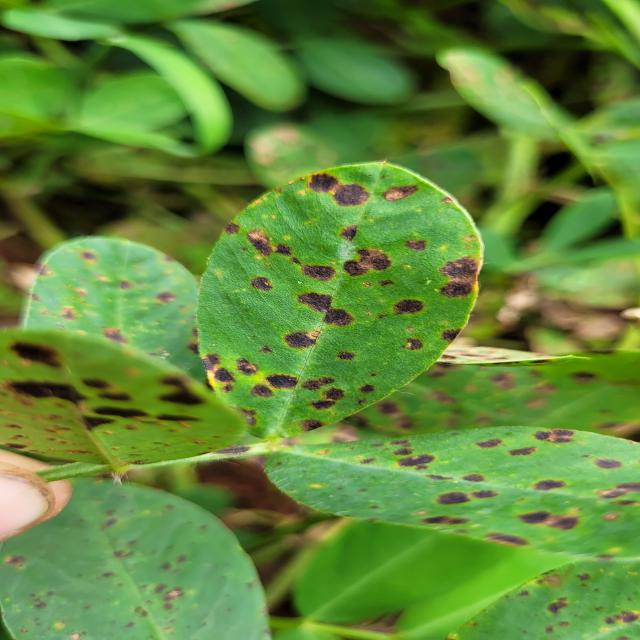Ground nut_tikka leaf spot: (187, 152, 483, 442)
